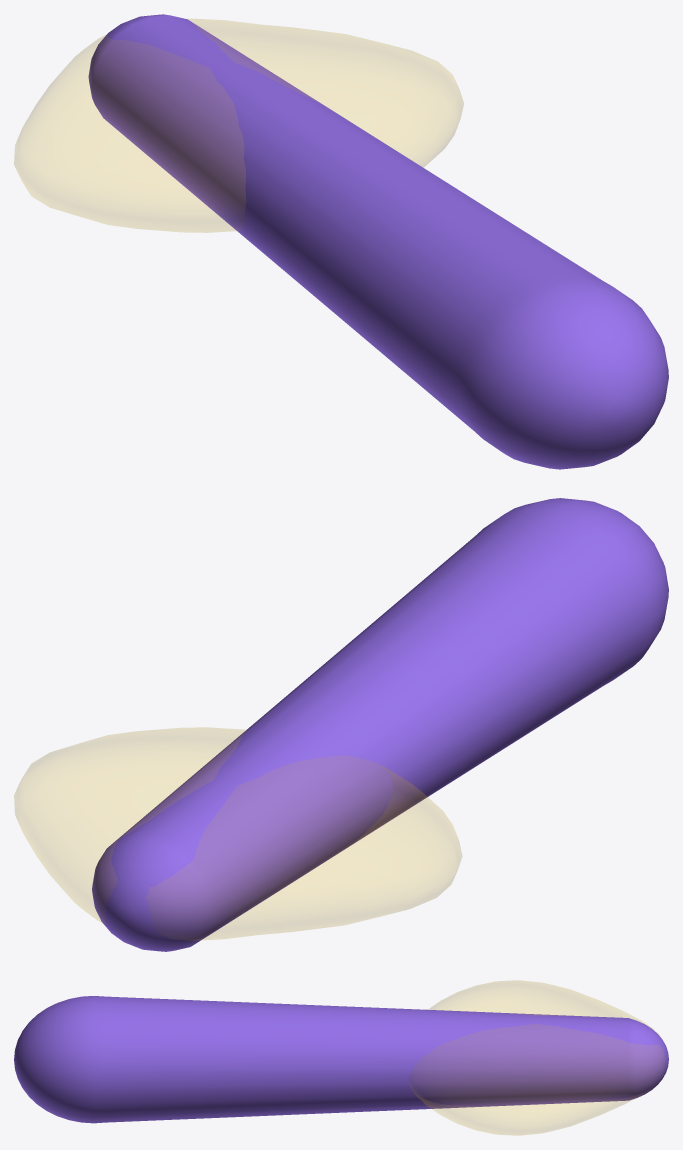
File: dem_vision.fbx
3 views of the same model, one above another, from view 1: azimuth 30°, elevation 25°; view 2: azimuth 150°, elevation 25°; view 3: azimuth 270°, elevation 25° (orthographic). The views are drawn at different scales.
Parts seen in each view (by area): view 1: hans_vision, hendes_vision; view 2: hans_vision, hendes_vision; view 3: hans_vision, hendes_vision.
Boxes of the visible parts, left/top/right/bottom form: hans_vision: left=88, top=14, right=668, bottom=469; hendes_vision: left=14, top=19, right=463, bottom=232; hans_vision: left=92, top=498, right=668, bottom=951; hendes_vision: left=14, top=727, right=461, bottom=940; hans_vision: left=14, top=996, right=668, bottom=1123; hendes_vision: left=414, top=980, right=659, bottom=1135.
Bounding box in the file's own units: 75.33 × 29.44 × 153.
